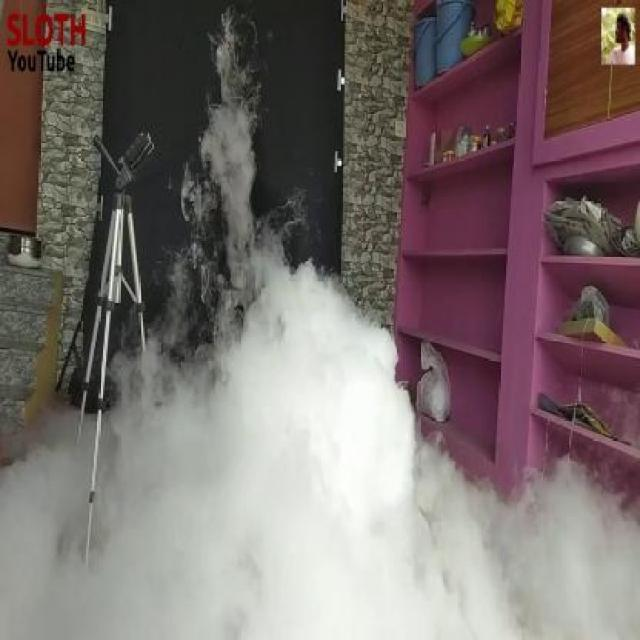smoke: (6, 414, 620, 631), (121, 304, 422, 614), (210, 40, 295, 352)
